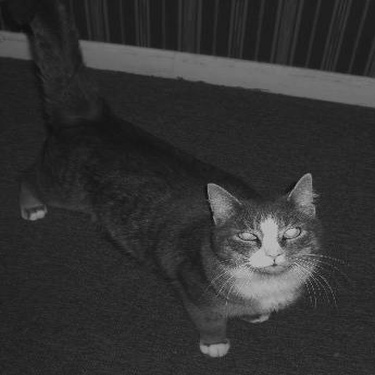cat: (11, 11, 346, 353)
